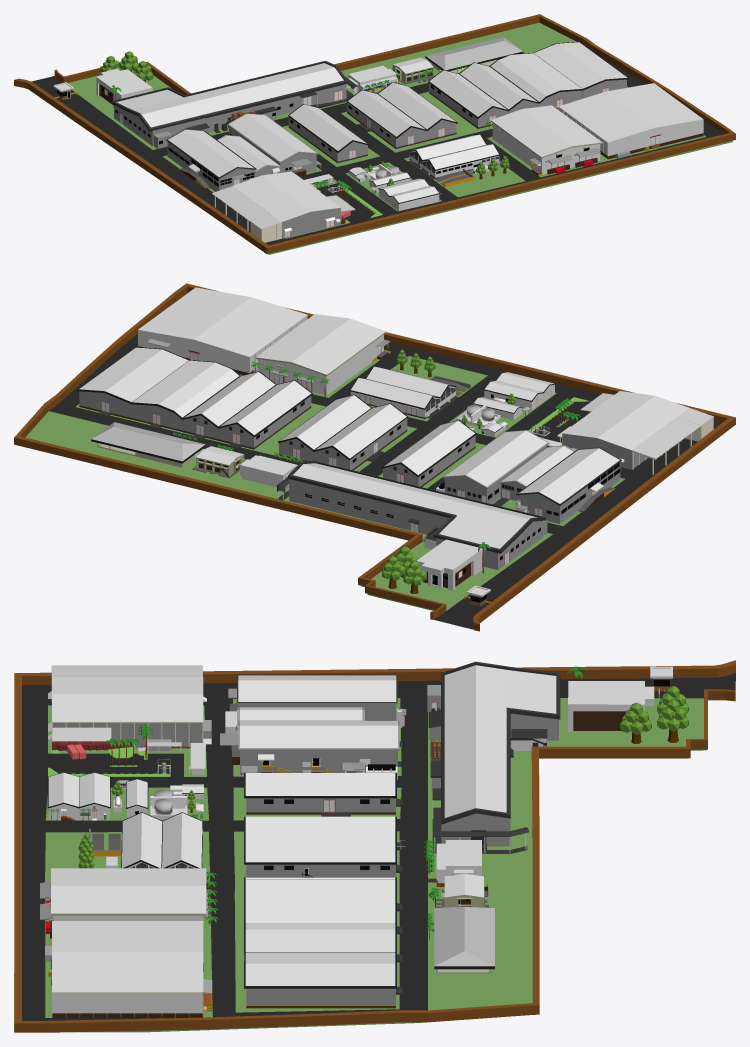
File: TrabajoProyectoARv51.fbx
3 views of the same model, one above another, from view 1: azimuth 30°, elevation 25°; view 2: azimuth 150°, elevation 25°; view 3: azimuth 270°, elevation 25° (orthographic). The views are drawn at different scales.
Parts seen in each view (by area): view 1: Cube.277, Carretera, Cesped, Almacen8, Cube.014, techos, Cube.298, Cube.019, Cube.273, Cube.274, edificio 5frente a teco techo.002, edificio 1 frente a teco techo.003 (+22 smaller); view 2: Cube.277, Carretera, Cesped, techos, Almacen8, Cube.014, Cube.298, Cube.019, Cube.273, Cube.274, edificio 5frente a teco techo.002, edificio 1 frente a teco techo.003 (+23 smaller); view 3: Carretera, Cesped, Cube.277, techos, Almacen8, Cube.014, Cube.019, Cube.298, Cube.274, Cube.273, edificio 1 frente a teco techo.003, edificio 5frente a teco techo.002 (+23 smaller).
Boxes of the visible parts, <box> form: Cube.277: <box>14,14,735,254</box>; Carretera: <box>31,54,723,245</box>; Cesped: <box>68,22,732,254</box>; Almacen8: <box>559,83,703,159</box>; Cube.014: <box>111,61,348,131</box>; techos: <box>346,62,539,138</box>; Cube.298: <box>490,105,602,174</box>; Cube.019: <box>232,171,340,238</box>; Cube.273: <box>166,129,256,191</box>; Cube.274: <box>227,113,318,172</box>; edificio 5frente a teco techo.002: <box>489,53,583,103</box>; edificio 1 frente a teco techo.003: <box>533,41,628,89</box>; Cube.277: <box>14,283,735,631</box>; Carretera: <box>49,299,720,629</box>; Cesped: <box>25,350,624,610</box>; techos: <box>182,371,408,460</box>; Almacen8: <box>138,287,306,375</box>; Cube.014: <box>287,461,546,553</box>; Cube.298: <box>255,314,386,395</box>; Cube.019: <box>562,391,689,469</box>; Cube.273: <box>516,447,621,523</box>; Cube.274: <box>443,430,549,503</box>; edificio 5frente a teco techo.002: <box>130,360,240,419</box>; edificio 1 frente a teco techo.003: <box>77,347,188,403</box>; Carretera: <box>22,673,735,1020</box>; Cesped: <box>14,698,706,1032</box>; Cube.277: <box>14,660,735,1032</box>; techos: <box>244,816,396,922</box>; Almacen8: <box>52,921,203,1017</box>; Cube.014: <box>441,661,560,824</box>; Cube.019: <box>52,677,203,747</box>; Cube.298: <box>51,868,206,940</box>; Cube.274: <box>238,720,399,774</box>; Cube.273: <box>237,674,397,720</box>; edificio 1 frente a teco techo.003: <box>244,952,396,988</box>; edificio 5frente a teco techo.002: <box>244,923,396,954</box>.
Size of the model in its own units: 4676 by 347 by 3927.
169 materials, 24 textured.
